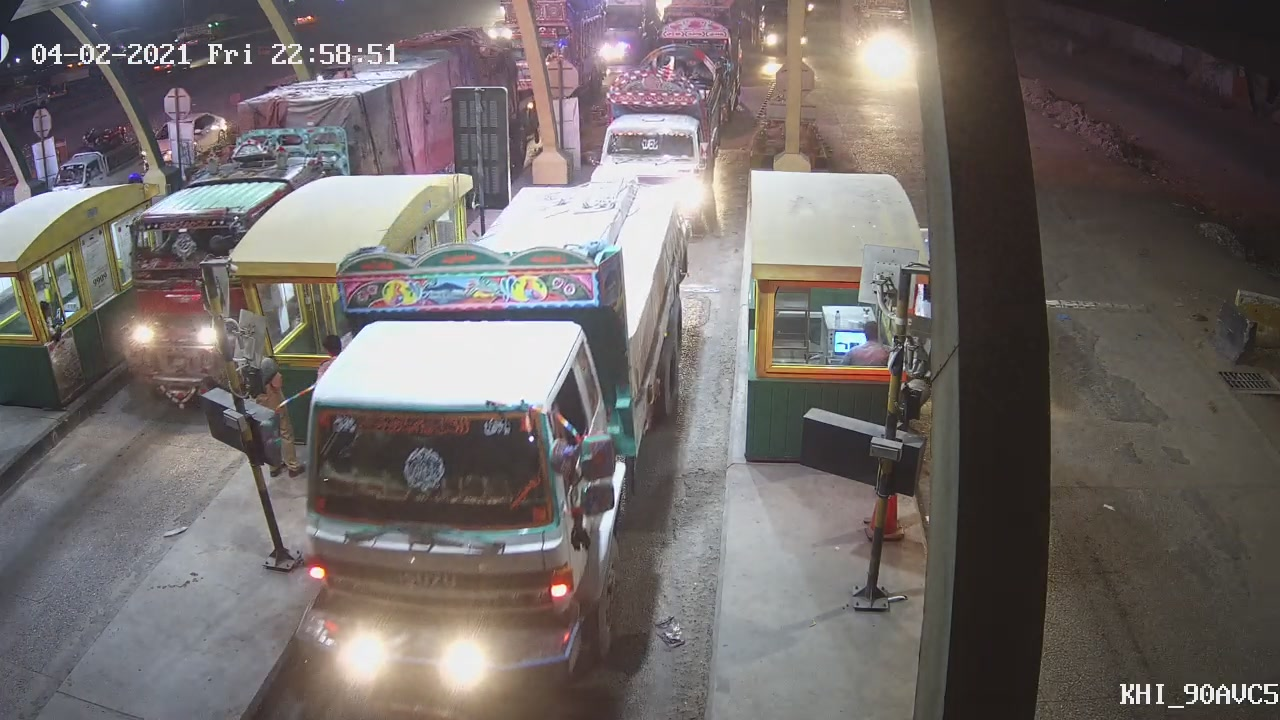F5: (287, 176, 690, 712)
